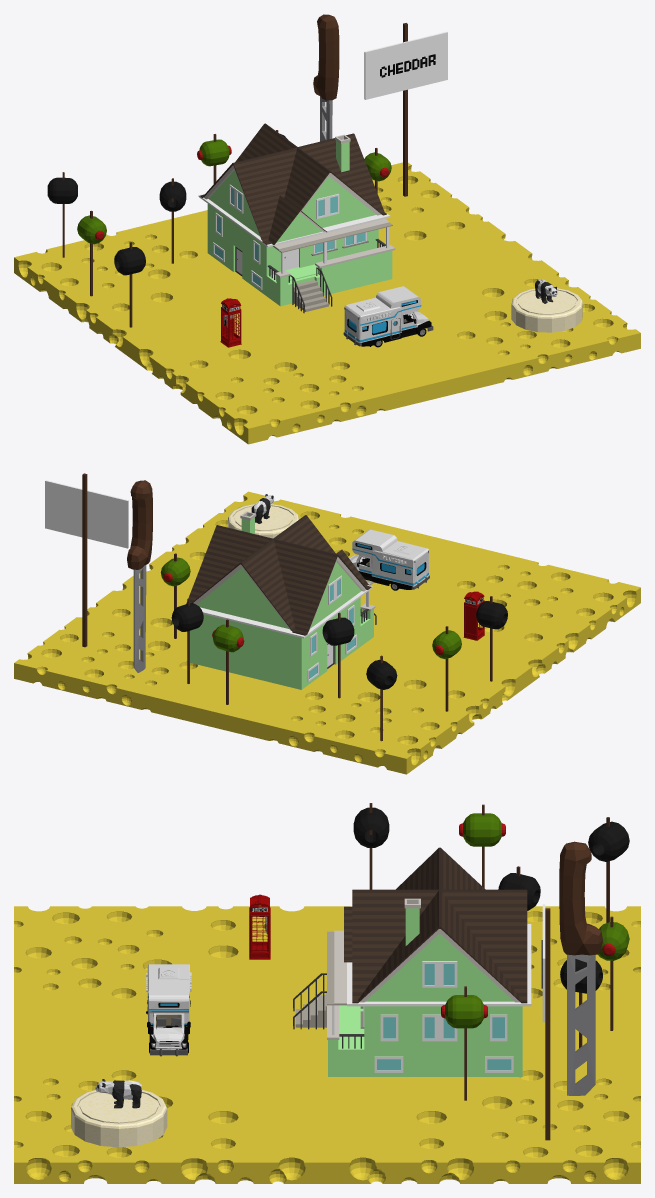
The picture shows the model from 3 angles, top to bottom: view 1: azimuth 30°, elevation 25°; view 2: azimuth 150°, elevation 25°; view 3: azimuth 270°, elevation 25°; orthographic projection. The views are drawn at different scales.
Parts seen in each view (by area): view 1: Cube.022, Cube.274, Cube.023, VEHICLES_CAMPER, Cylinder.016, Cube.024, Sphere.017, OBJRANDOM_PHONEBOOTH, Sphere.016, Sphere.020, Sphere.018, Sphere.022 (+1 smaller); view 2: Cube.022, Cube.274, Cube.023, VEHICLES_CAMPER, Cube.024, Cylinder.016, Sphere.017, Sphere.020, Sphere.021, Sphere.016, Sphere.018, Sphere.022 (+2 smaller); view 3: Cube.022, Cube.274, Cube.024, Cylinder.016, VEHICLES_CAMPER, Cube.023, Sphere.019, Sphere.016, Sphere.018, Sphere.017, OBJRANDOM_PHONEBOOTH, Sphere.022 (+3 smaller).
Boxes of the visible parts, x1=… form: Cube.022: x1=14, y1=162, x2=640, y2=444; Cube.274: x1=198, y1=123, x2=395, y2=313; Cube.023: x1=364, y1=23, x2=447, y2=196; VEHICLES_CAMPER: x1=343, y1=286, x2=433, y2=347; Cylinder.016: x1=511, y1=288, x2=582, y2=332; Cube.024: x1=313, y1=14, x2=339, y2=141; Sphere.017: x1=114, y1=242, x2=145, y2=327; OBJRANDOM_PHONEBOOTH: x1=220, y1=298, x2=241, y2=347; Sphere.016: x1=47, y1=172, x2=77, y2=257; Sphere.020: x1=159, y1=178, x2=186, y2=263; Sphere.018: x1=77, y1=210, x2=106, y2=296; Sphere.022: x1=197, y1=134, x2=231, y2=183; Cube.022: x1=14, y1=491, x2=640, y2=774; Cube.274: x1=185, y1=511, x2=376, y2=689; Cube.023: x1=45, y1=473, x2=128, y2=647; VEHICLES_CAMPER: x1=349, y1=529, x2=429, y2=590; Cube.024: x1=127, y1=480, x2=152, y2=672; Cylinder.016: x1=228, y1=504, x2=298, y2=538; Sphere.017: x1=476, y1=596, x2=507, y2=681; Sphere.020: x1=322, y1=612, x2=354, y2=698; Sphere.021: x1=171, y1=598, x2=203, y2=683; Sphere.016: x1=366, y1=655, x2=397, y2=741; Sphere.018: x1=432, y1=626, x2=461, y2=711; Sphere.022: x1=212, y1=619, x2=244, y2=704; Cube.022: x1=14, y1=906, x2=640, y2=1183; Cube.274: x1=293, y1=847, x2=531, y2=1076; Cube.024: x1=559, y1=841, x2=602, y2=1095; Cylinder.016: x1=71, y1=1089, x2=167, y2=1147; VEHICLES_CAMPER: x1=146, y1=964, x2=191, y2=1056; Cube.023: x1=541, y1=904, x2=550, y2=1140; Sphere.019: x1=441, y1=986, x2=487, y2=1100; Sphere.016: x1=588, y1=817, x2=629, y2=922; Sphere.018: x1=459, y1=804, x2=505, y2=887; Sphere.017: x1=353, y1=803, x2=389, y2=889; OBJRANDOM_PHONEBOOTH: x1=249, y1=894, x2=270, y2=959; Sphere.022: x1=598, y1=916, x2=629, y2=1030.
Size of the model in its own units: 3917 by 2023 by 4000.
42 materials, 3 textured.
